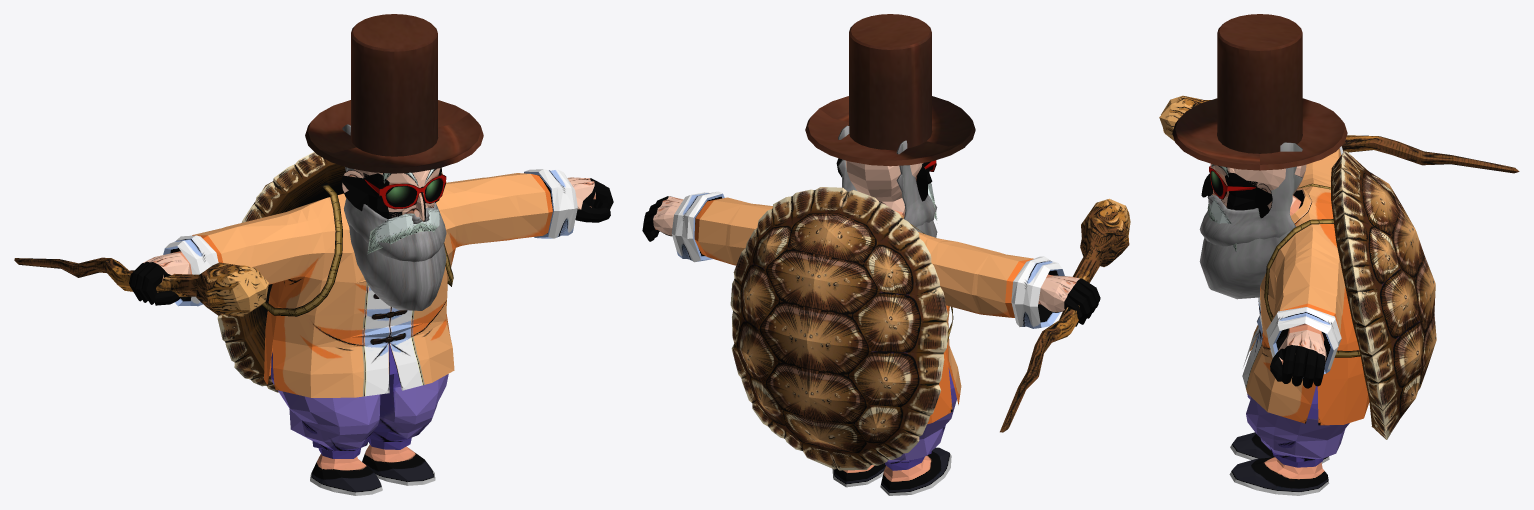
Rendered from samos-highres-lod0.glb.
3 views of the same model, side by side, from view 1: azimuth 30°, elevation 25°; view 2: azimuth 150°, elevation 25°; view 3: azimuth 270°, elevation 25° (orthographic). The views are drawn at different scales.
Parts seen in each view (by area): view 1: SantaBeard_M_Fat.001; view 2: SantaBeard_M_Fat.001; view 3: SantaBeard_M_Fat.001.
Part boxes in pixels (bbox=[...]): SantaBeard_M_Fat.001: bbox=[14, 14, 613, 495]; SantaBeard_M_Fat.001: bbox=[642, 14, 1130, 495]; SantaBeard_M_Fat.001: bbox=[1159, 14, 1519, 495].
Bounding box in the file's own units: 3.2 × 2.87 × 2.1.
Materials: 5 (5 with a texture image).
